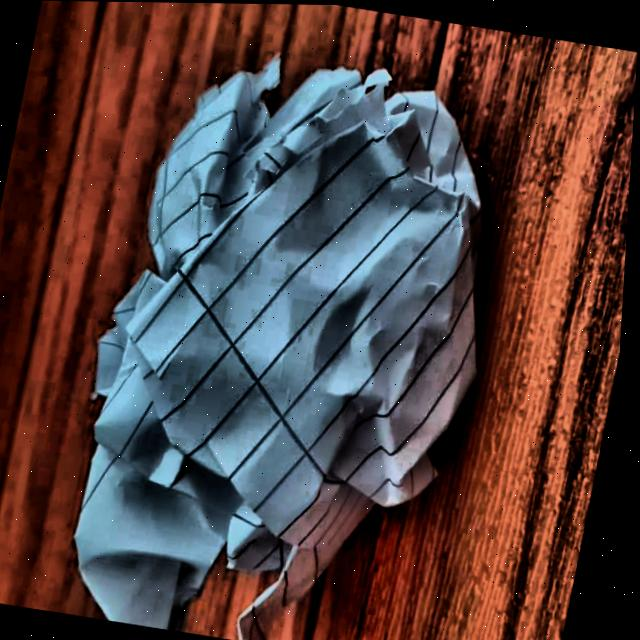paper: (60, 13, 536, 640)
